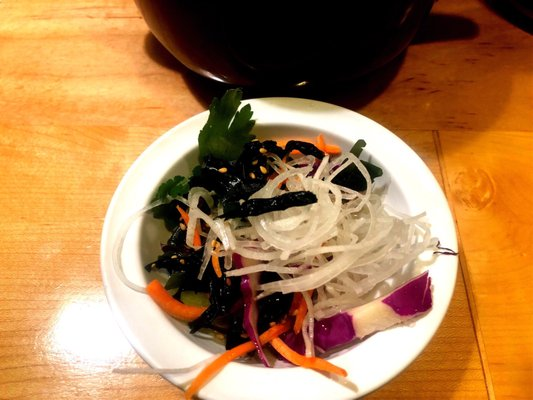sushi: (100, 96, 470, 399)
